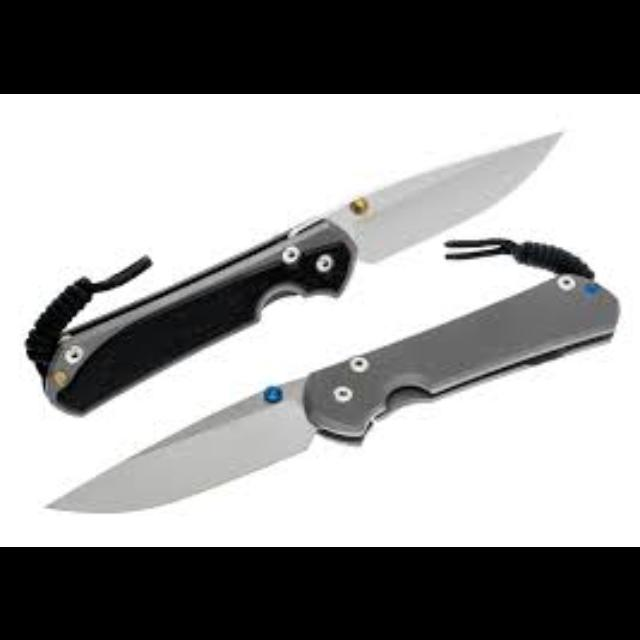Knife: (27, 126, 563, 414), (44, 264, 618, 512)
